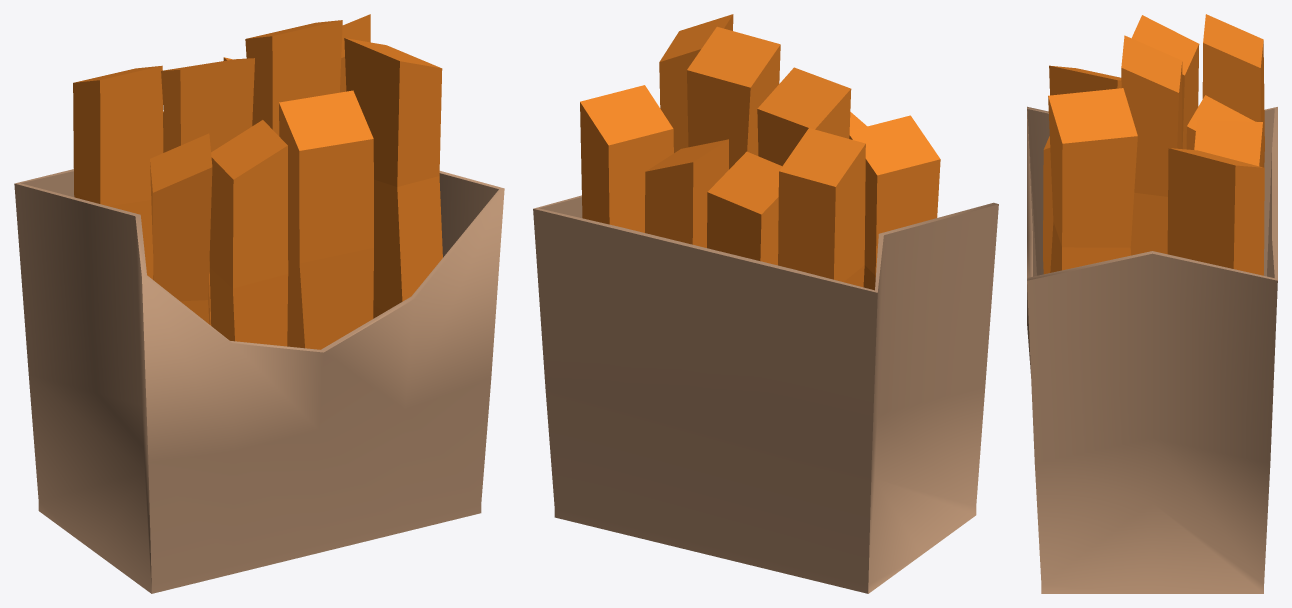
File: French Fries.FBX
3 renders of one model, left to right at view 1: azimuth 30°, elevation 25°; view 2: azimuth 150°, elevation 25°; view 3: azimuth 270°, elevation 25°, orthographic. The views are drawn at different scales.
Visible parts, largest first — view 1: frenchFriesBox, FrenchFrie.003, FrenchFrie.007, FrenchFrie.002, FrenchFrie.001, FrenchFrie.004, FrenchFrie.005, FrenchFrie.006, FrenchFrie; view 2: frenchFriesBox, FrenchFrie.001, FrenchFrie, FrenchFrie.006, FrenchFrie.004, FrenchFrie.008, FrenchFrie.009, FrenchFrie.005, FrenchFrie.007; view 3: frenchFriesBox, FrenchFrie.007, FrenchFrie, FrenchFrie.006, FrenchFrie.001, FrenchFrie.005, FrenchFrie.009, FrenchFrie.004, FrenchFrie.003, FrenchFrie.008.
Boxes of the visible parts, left/top/right/bottom form: frenchFriesBox: left=14, top=169, right=504, bottom=593; FrenchFrie.003: left=279, top=90, right=373, bottom=349; FrenchFrie.007: left=344, top=38, right=442, bottom=318; FrenchFrie.002: left=209, top=120, right=288, bottom=346; FrenchFrie.001: left=73, top=65, right=163, bottom=279; FrenchFrie.004: left=150, top=133, right=212, bottom=324; FrenchFrie.005: left=161, top=58, right=254, bottom=325; FrenchFrie.006: left=245, top=20, right=342, bottom=135; FrenchFrie: left=340, top=14, right=370, bottom=92; frenchFriesBox: left=533, top=195, right=998, bottom=593; FrenchFrie.001: left=778, top=128, right=865, bottom=287; FrenchFrie: left=580, top=85, right=673, bottom=232; FrenchFrie.006: left=687, top=26, right=780, bottom=169; FrenchFrie.004: left=849, top=115, right=940, bottom=290; FrenchFrie.008: left=707, top=151, right=781, bottom=265; FrenchFrie.009: left=645, top=139, right=728, bottom=247; FrenchFrie.005: left=757, top=67, right=851, bottom=166; FrenchFrie.007: left=659, top=14, right=733, bottom=152; frenchFriesBox: left=1027, top=106, right=1277, bottom=593; FrenchFrie.007: left=1048, top=88, right=1137, bottom=272; FrenchFrie: left=1167, top=148, right=1264, bottom=275; FrenchFrie.006: left=1121, top=35, right=1182, bottom=255; FrenchFrie.001: left=1202, top=14, right=1264, bottom=167; FrenchFrie.005: left=1131, top=15, right=1199, bottom=149; FrenchFrie.009: left=1194, top=119, right=1262, bottom=167; FrenchFrie.004: left=1049, top=65, right=1121, bottom=95; FrenchFrie.003: left=1043, top=136, right=1053, bottom=274; FrenchFrie.008: left=1186, top=95, right=1254, bottom=149.
Size of the model in its own units: 0.0746 by 0.0958 by 0.0454.
